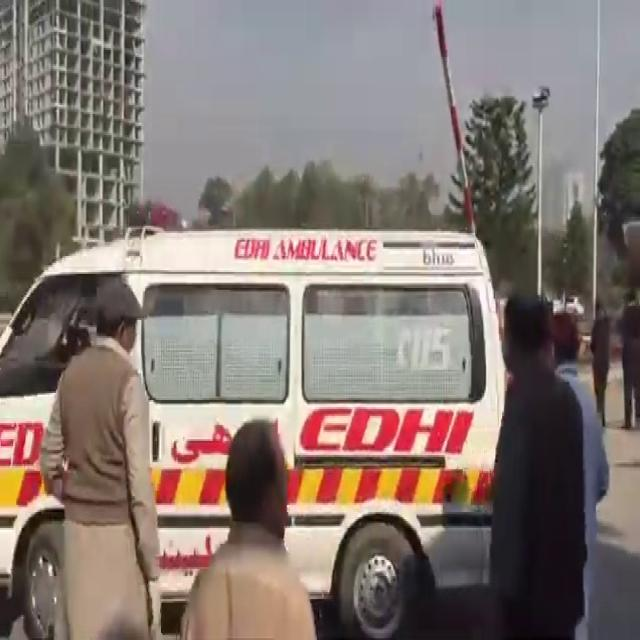ambulance: (0, 220, 481, 640)
